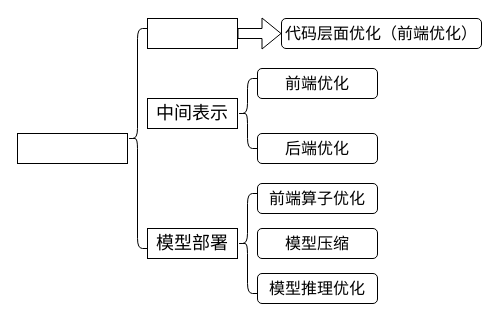
This 499x321 diagram has some shape labels left out. Here are the shapes that lost their labels. From the top down, the centre of each, then its label:
At (192,33): "模型生成".
At (72,148): "框架优化流程".
